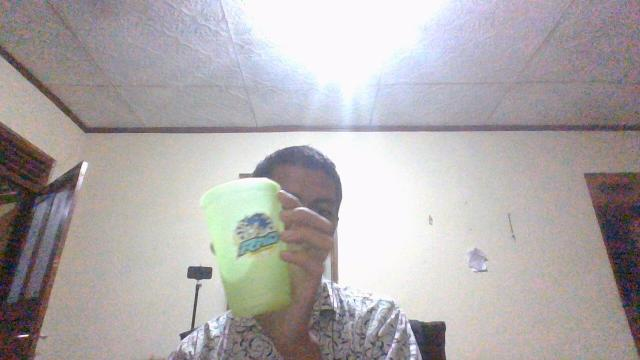botol-hijau: (198, 176, 302, 318)
